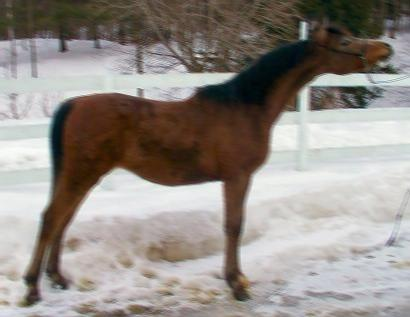horse: (21, 13, 392, 305)
